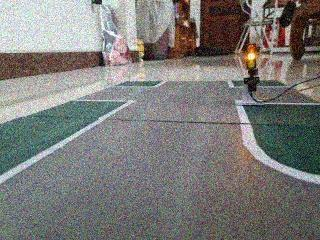yellow: (234, 36, 271, 74)
